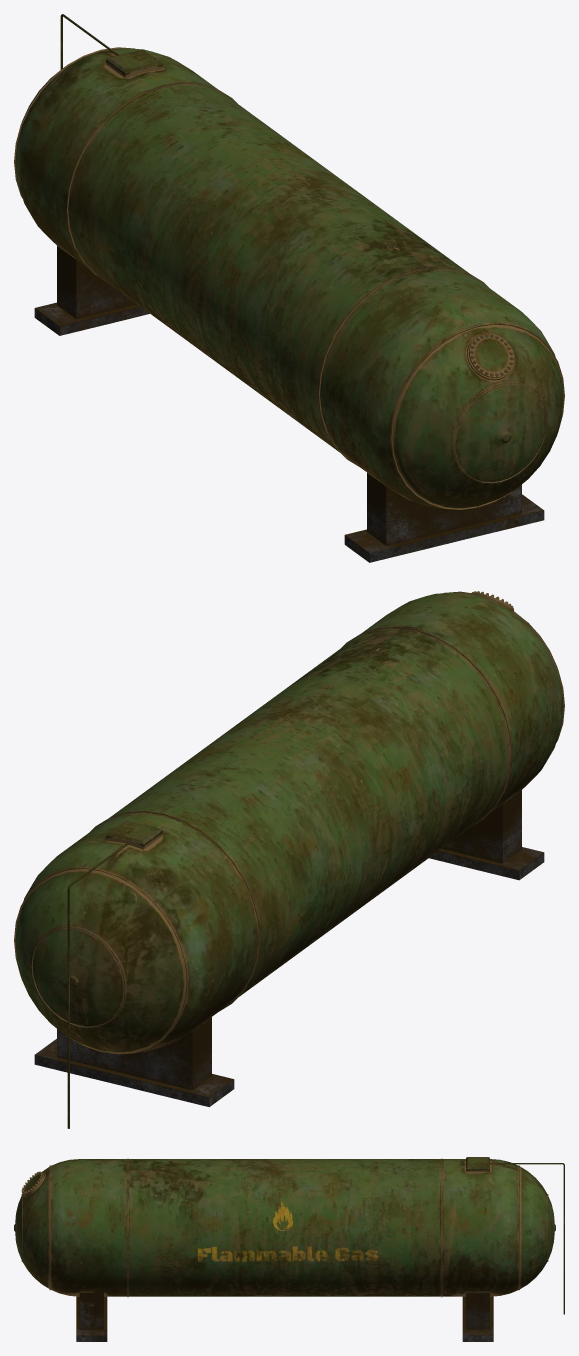
File: fuel-tank.glb
3 renders of one model, top to bottom at view 1: azimuth 30°, elevation 25°; view 2: azimuth 150°, elevation 25°; view 3: azimuth 270°, elevation 25°, orthographic. The views are drawn at different scales.
Parts seen in each view (by area): view 1: Gas tank Horizontal_Gas Tank _0, Gas tank Horizontal_Cement Base_0; view 2: Gas tank Horizontal_Gas Tank _0, Gas tank Horizontal_Cement Base_0; view 3: Gas tank Horizontal_Gas Tank _0, Gas tank Horizontal_Cement Base_0.
Part boxes in pixels (<box>): Gas tank Horizontal_Gas Tank _0: <box>14,14,564,509</box>; Gas tank Horizontal_Cement Base_0: <box>34,246,544,562</box>; Gas tank Horizontal_Gas Tank _0: <box>14,591,564,1128</box>; Gas tank Horizontal_Cement Base_0: <box>34,790,544,1107</box>; Gas tank Horizontal_Gas Tank _0: <box>14,1157,564,1314</box>; Gas tank Horizontal_Cement Base_0: <box>76,1292,493,1341</box>.
Size of the model in its own units: 2.02 by 2.45 by 7.99.
Materials: 2 (2 with a texture image).
